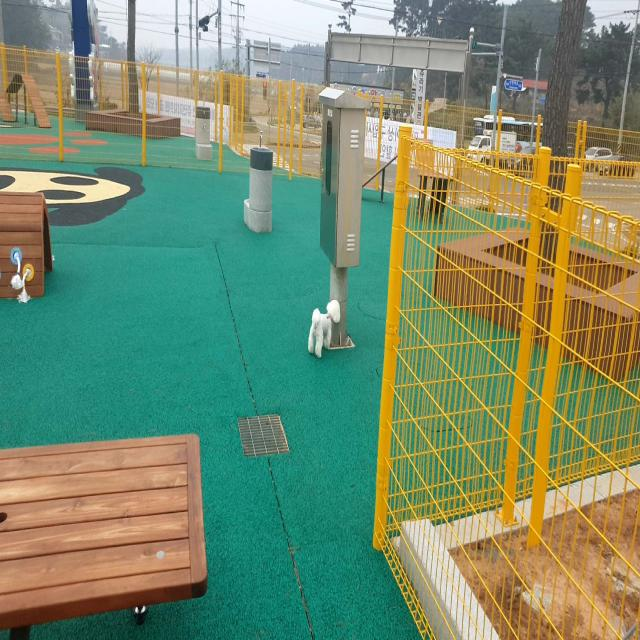Dog: (309, 299, 341, 359)
